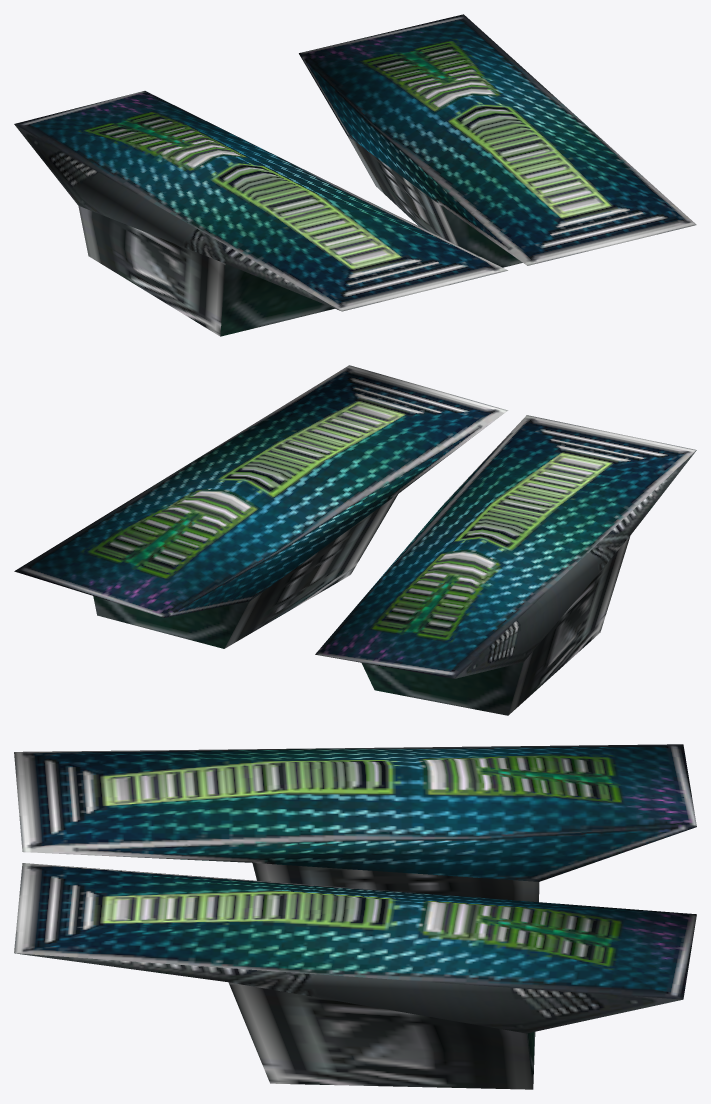
File: ArmPads4__VTX.glb
3 renders of one model, top to bottom at view 1: azimuth 30°, elevation 25°; view 2: azimuth 150°, elevation 25°; view 3: azimuth 270°, elevation 25°, orthographic. The views are drawn at different scales.
Visible parts, largest first — view 1: ArmPads4; view 2: ArmPads4; view 3: ArmPads4.
Part boxes in pixels (x1=…): ArmPads4: x1=14, y1=14, x2=696, y2=336; ArmPads4: x1=14, y1=365, x2=696, y2=715; ArmPads4: x1=14, y1=744, x2=696, y2=1089.
Bounding box in the file's own units: 15.19 × 3.86 × 17.06.
Materials: 1 (1 with a texture image).
